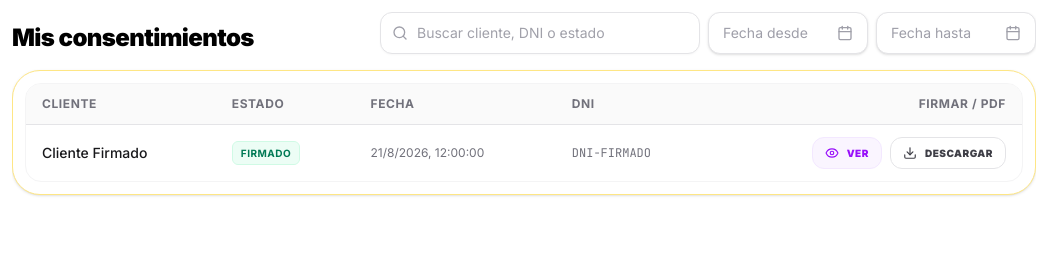
it: ArtistConsents signed file actions › reports a missing final metadata row without opening or downloading anything
Step 1. Click the button with aria-label "Abrir PDF firmado" → (847, 153), box x1=812 y1=137 x2=882 y2=169
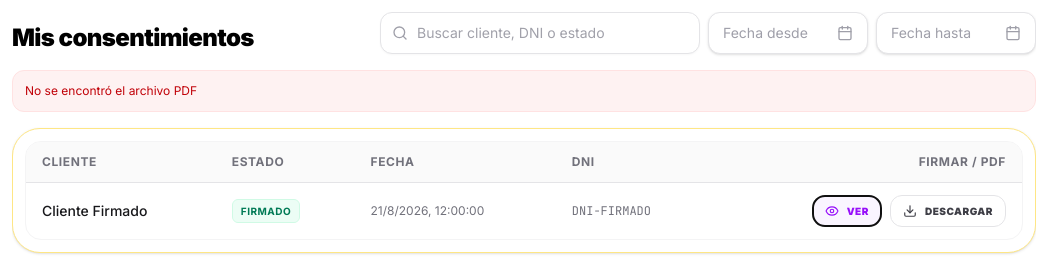
Result: the text "No se encontró el archivo PDF" is shown at x1=12 y1=70 x2=1036 y2=112
